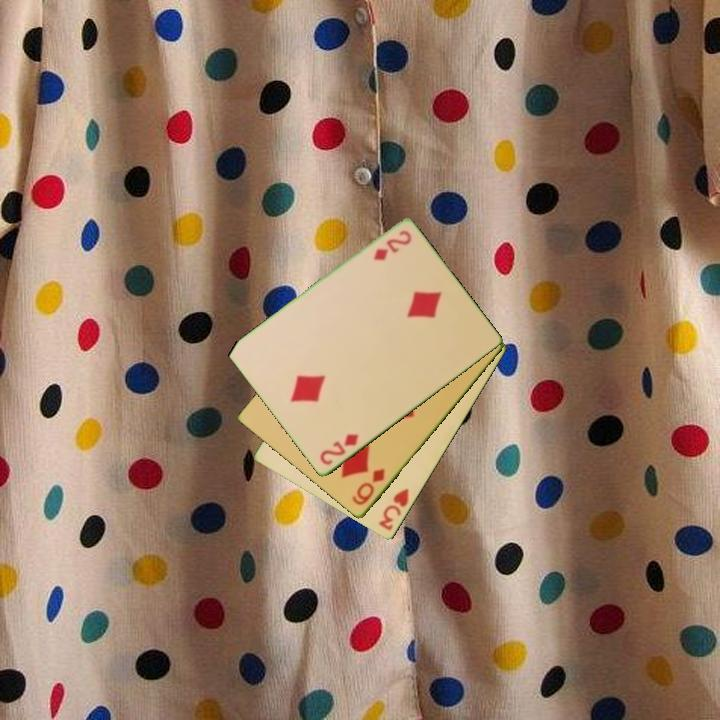2d: (316, 430, 362, 468), (370, 227, 414, 264)
3h: (375, 485, 412, 534)
6d: (348, 465, 388, 509)
